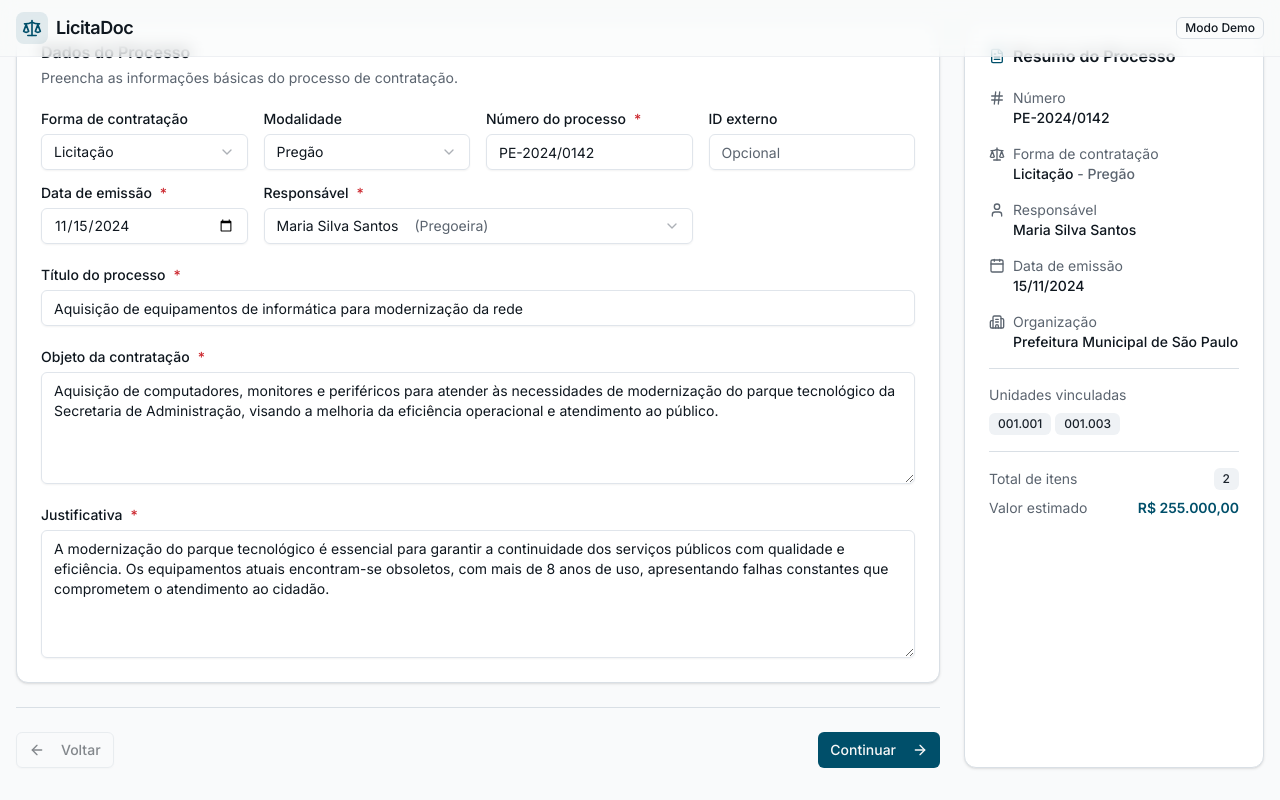
Test: ProcessCreateDemoPage › does not allow choosing an organization in the links step
The width and height of the screenshot is (1280, 800).
(page scrolled)
Click the button "Continuar".
click(879, 750)  # box left=818, top=732, right=940, bottom=768
(page scrolled)
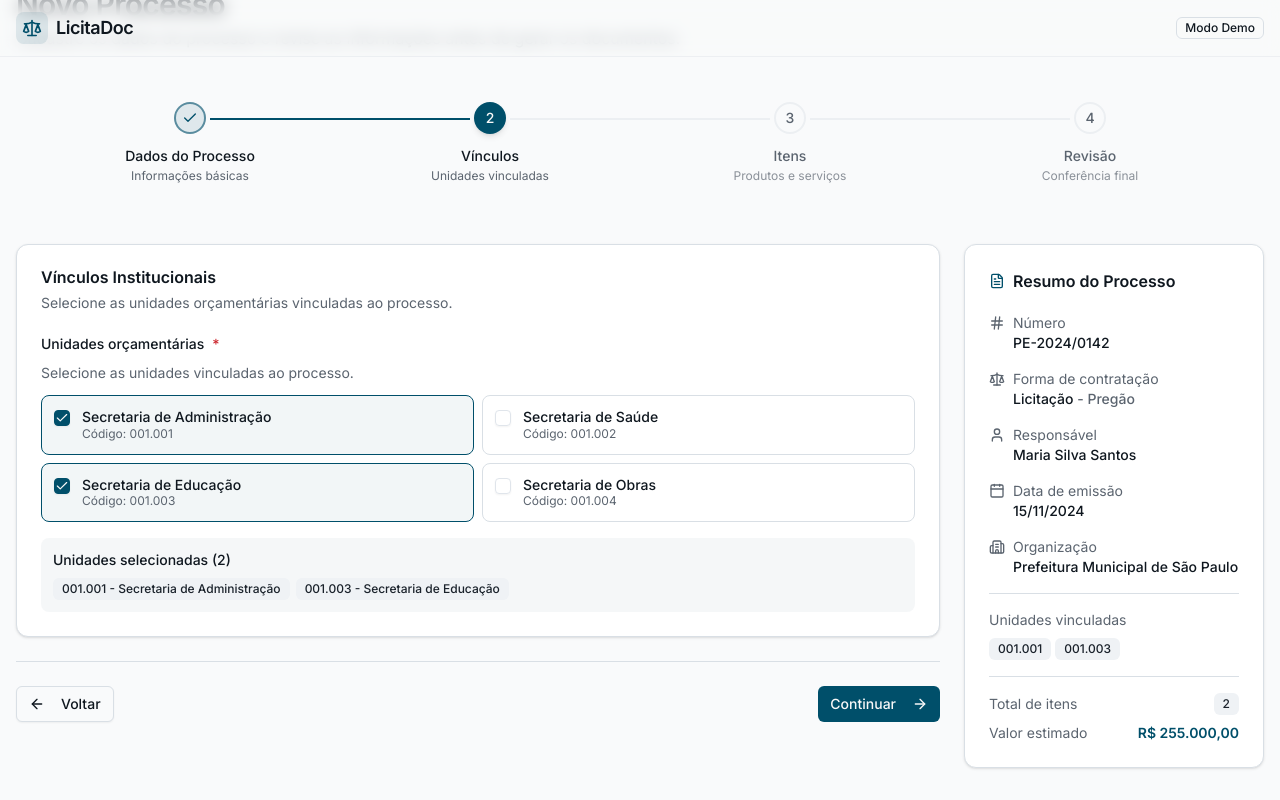
Now the text "Vínculos Institucionais" is shown, box left=41, top=267, right=216, bottom=287
Now the text "Unidades orçamentárias" is shown, box left=41, top=335, right=204, bottom=352
